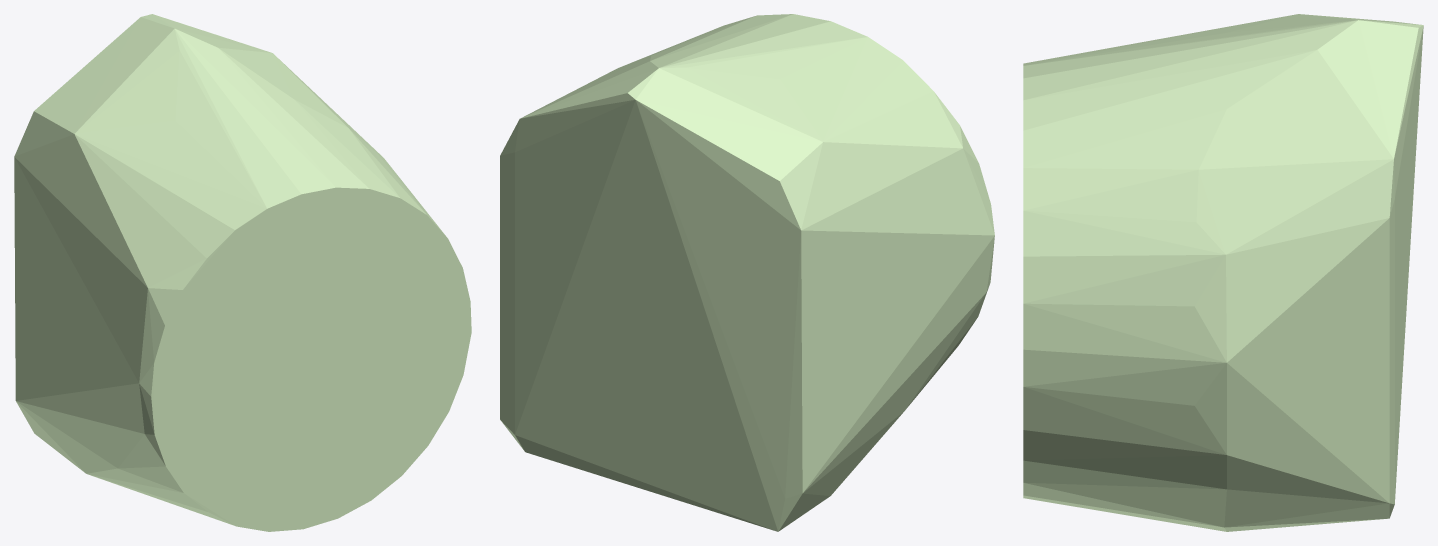
Rendered from iiwa_robot_base_coll_1.obj.
3 renders of one model, left to right at view 1: azimuth 30°, elevation 25°; view 2: azimuth 150°, elevation 25°; view 3: azimuth 270°, elevation 25°, orthographic. The views are drawn at different scales.
Parts seen in each view (by area): view 1: node; view 2: node; view 3: node.
Part boxes in pixels (x1,y1,x2,y2): node: (14, 14, 471, 531); node: (500, 14, 994, 531); node: (1023, 14, 1423, 531).
Size of the model in its own units: 0.1871 by 0.2105 by 0.1575.
